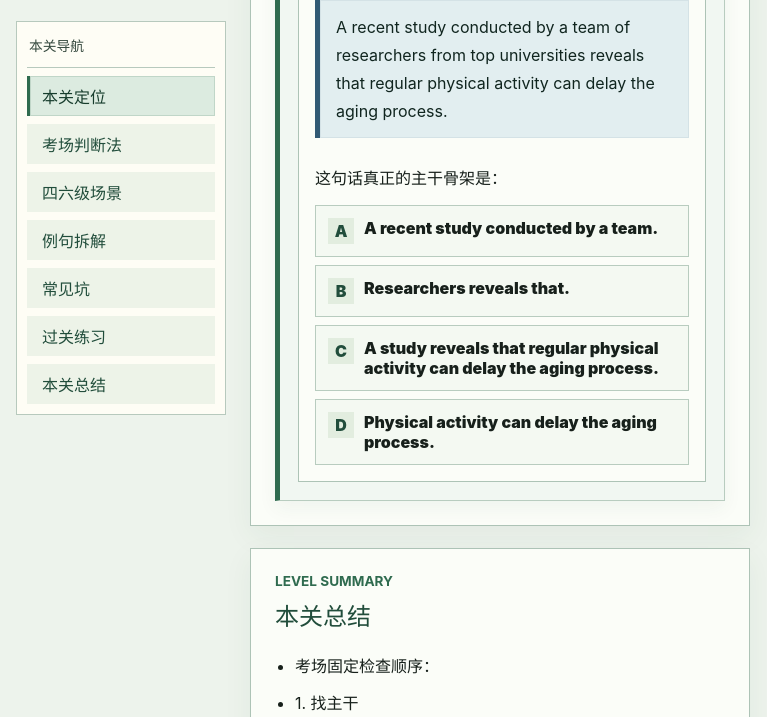
LevelTenPage › renders the final review lesson, SOP, and first-question feedback
(page scrolled)
Click the button that starts with "A study".
click(502, 358)  # box [315,325,689,391]
(page scrolled)
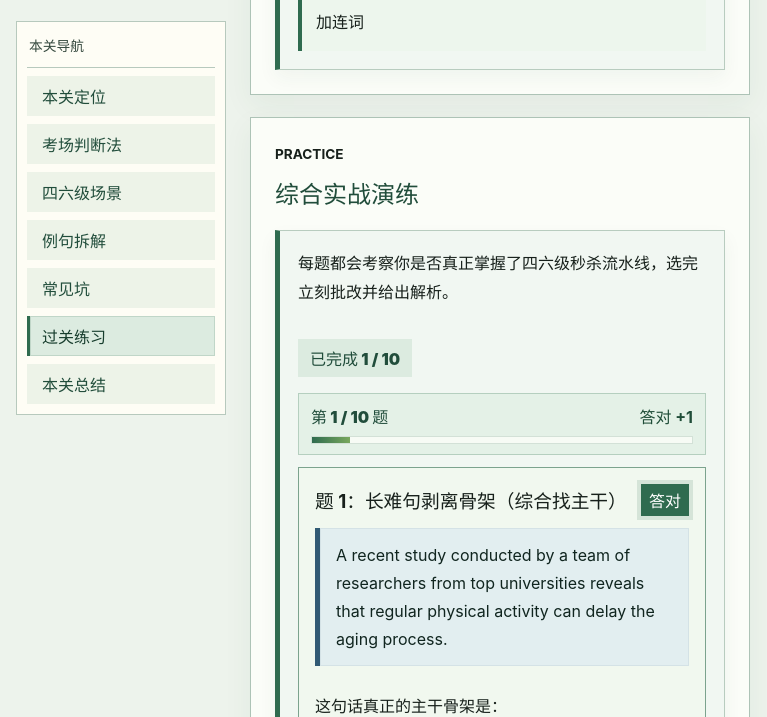
Now the text "答对" is shown, box [641,484,689,516]
